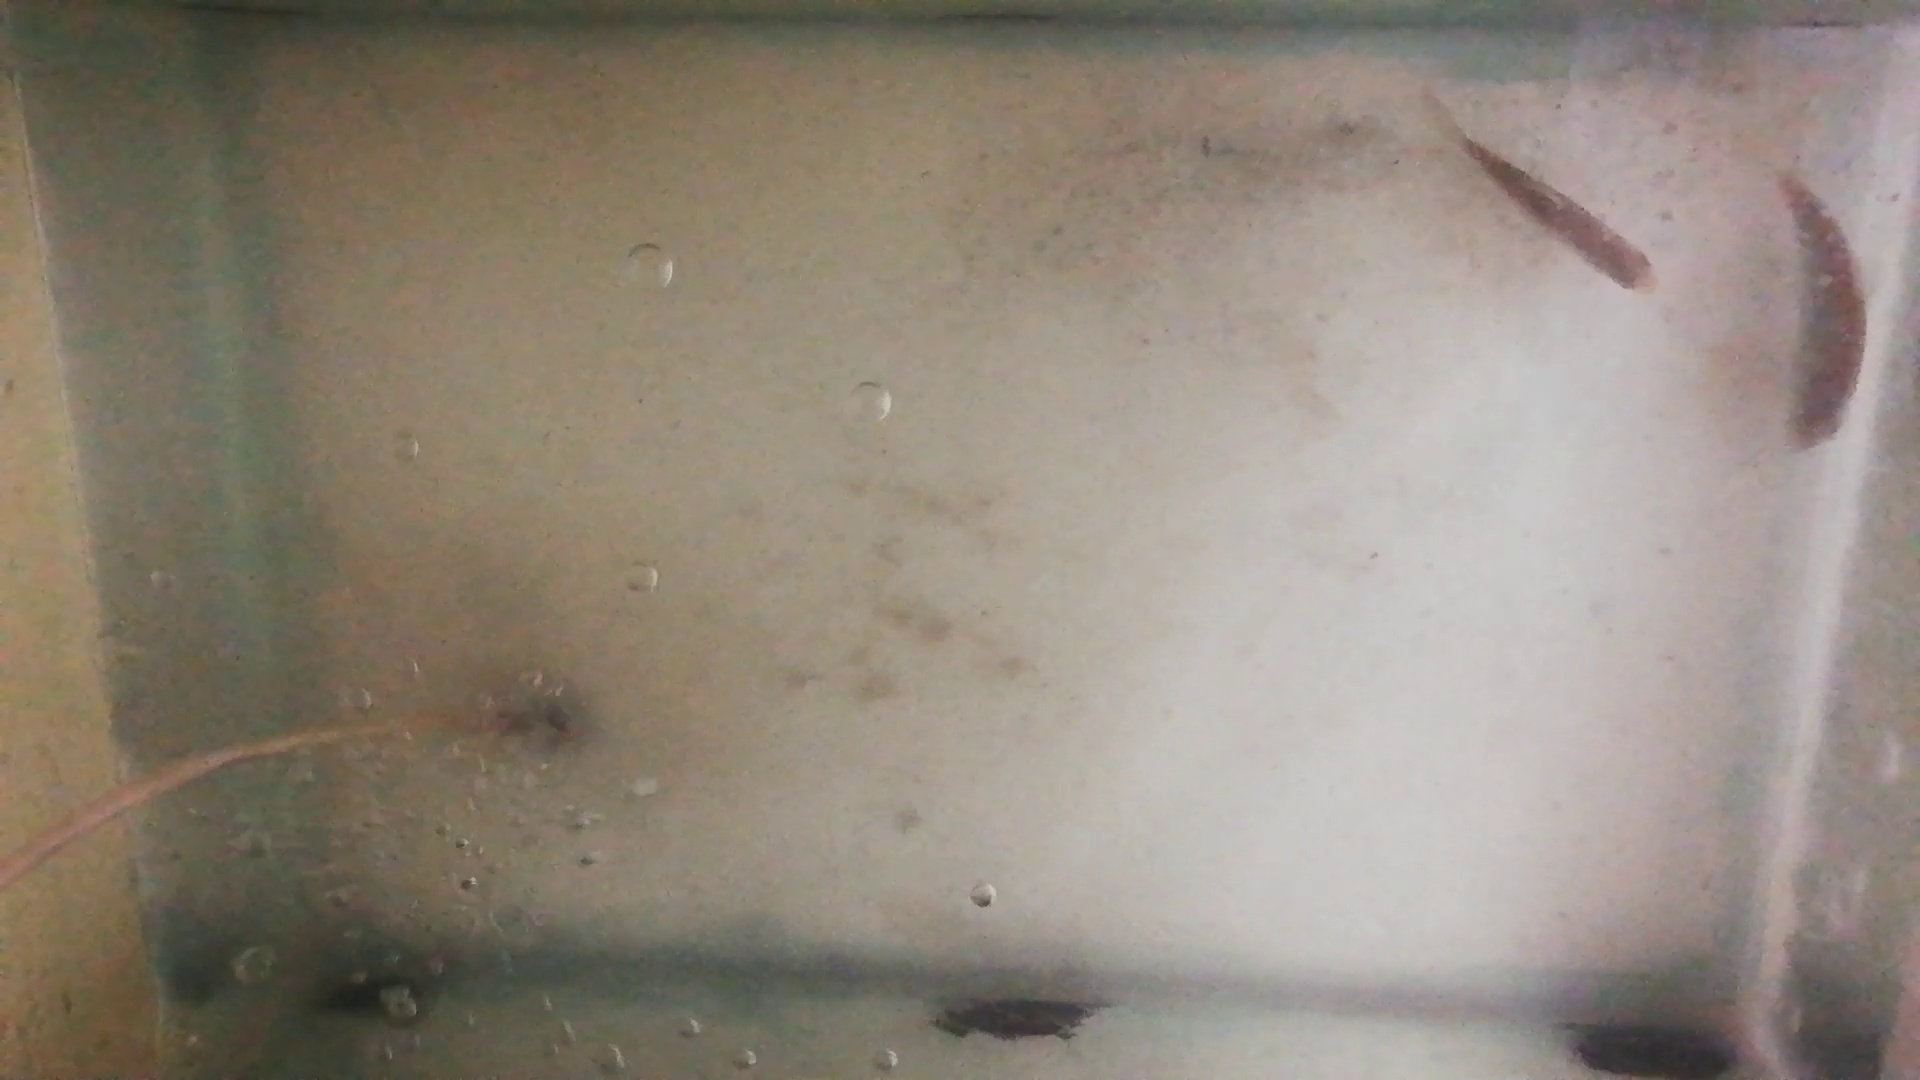fish: (1458, 135, 1658, 298), (1779, 179, 1869, 454)
